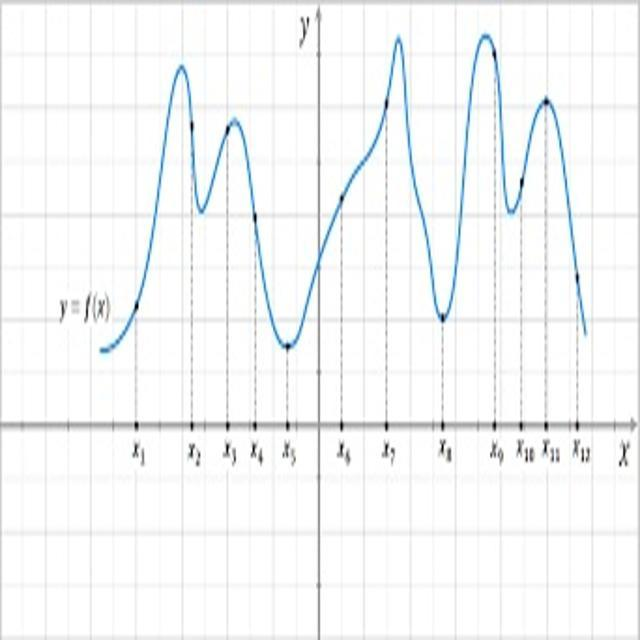axis: (0, 418, 640, 431), (314, 0, 325, 640)
line: (98, 29, 591, 355)
